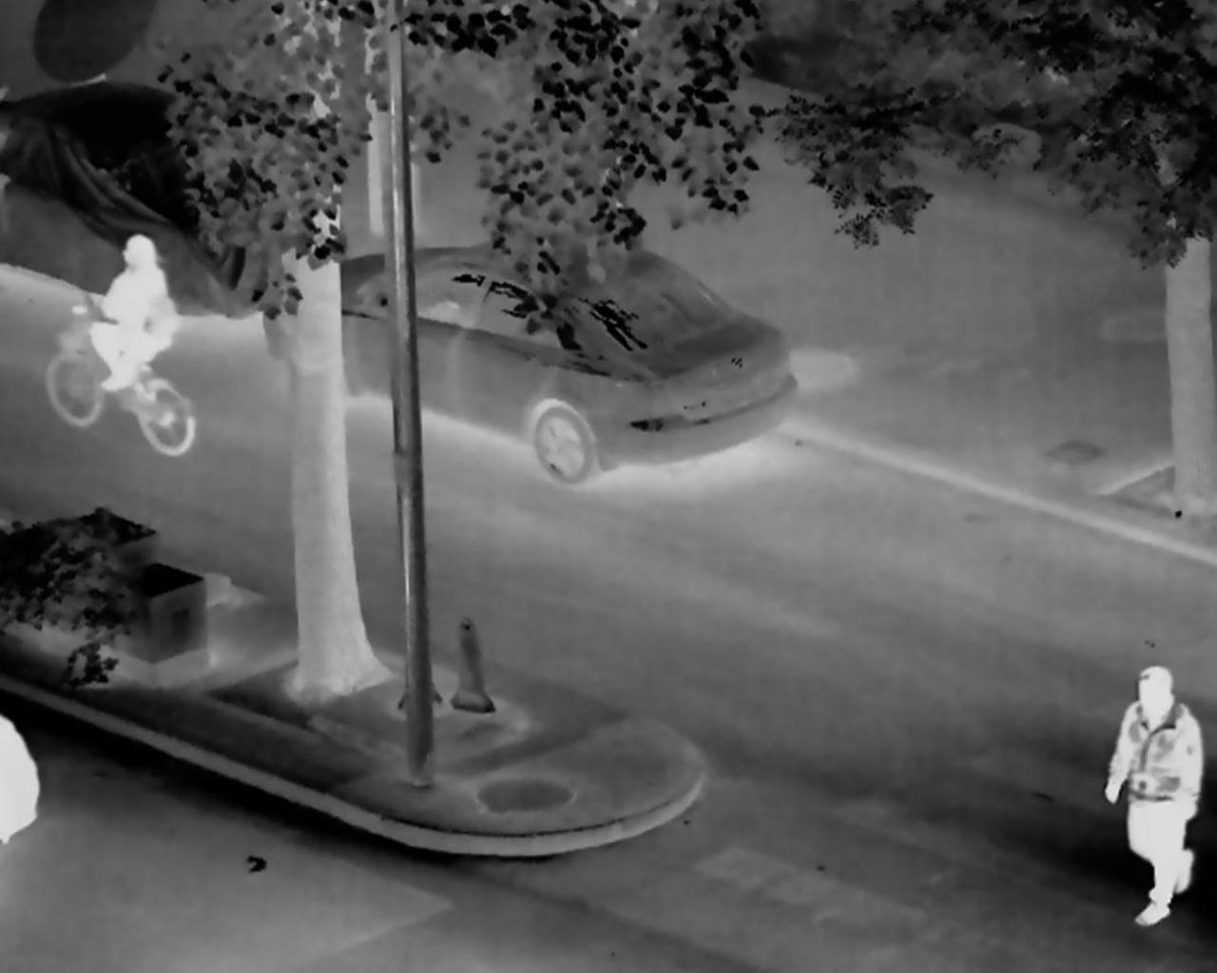person: (1101, 666, 1202, 929), (87, 236, 179, 393)
